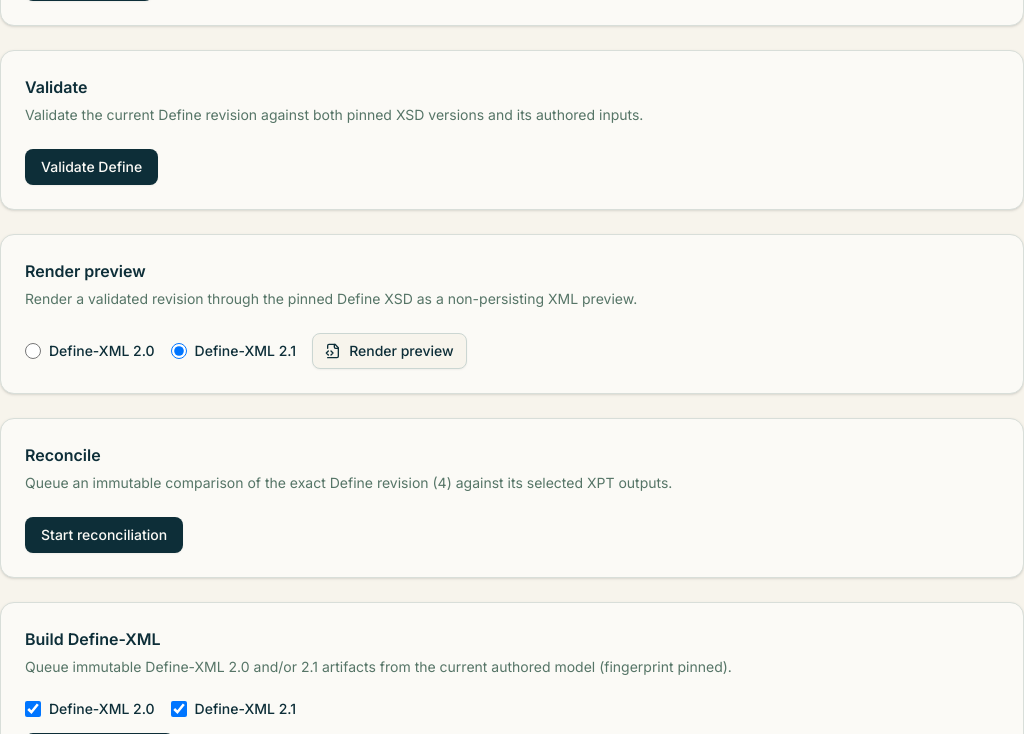
it: DefinePanel render preview (Req 18.5) › requests version=2.0 when the 2.0 radio is selected
The image size is (1024, 734).
(page scrolled)
Click the radio button labelled "Define-XML 2.0" at (33, 351), box [25, 343, 41, 359]
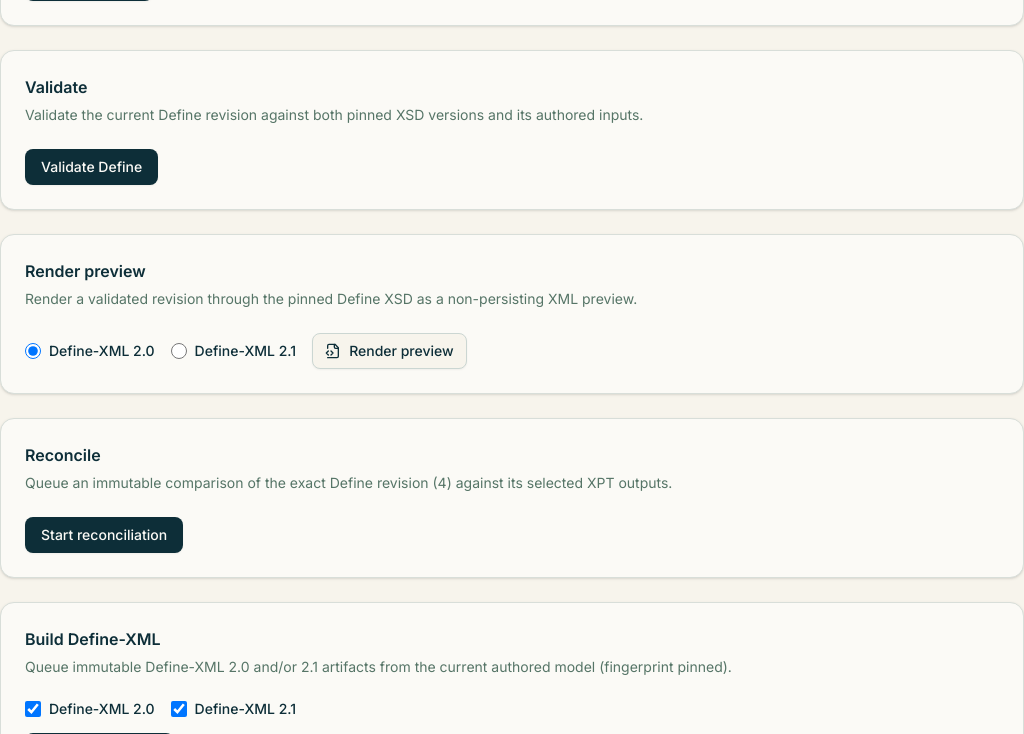
Click the button "Render preview" at (389, 351), box [312, 333, 467, 369]
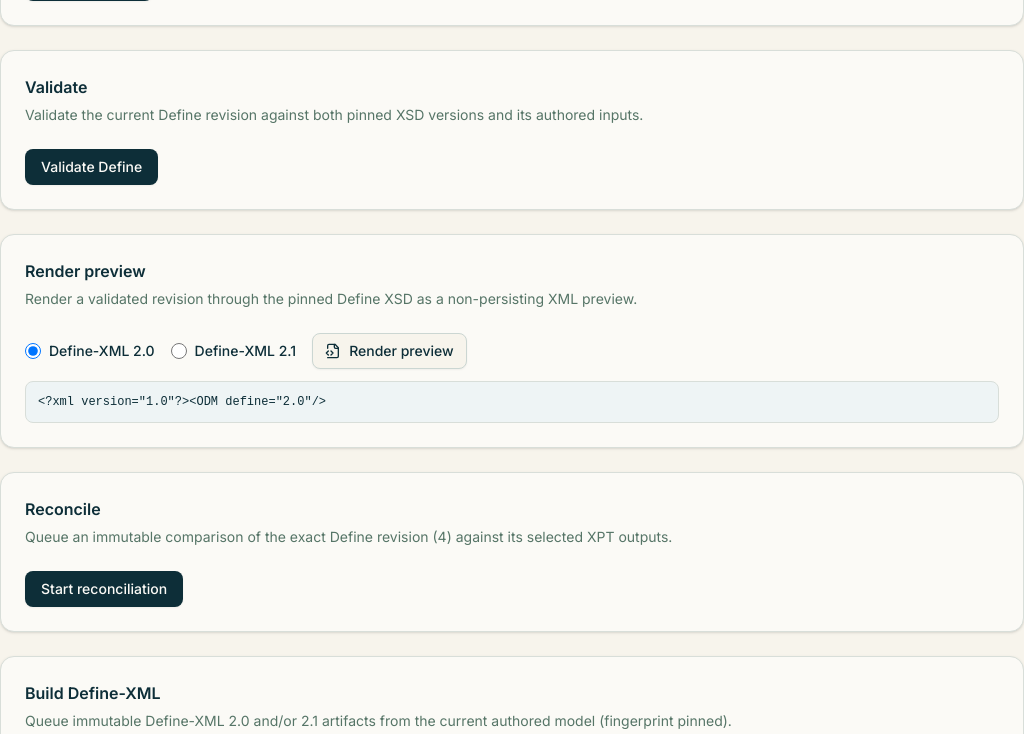
expect the element named "define-xml 2.0 preview" shows "define=\"2.0\"": met, box [38, 395, 326, 409]
